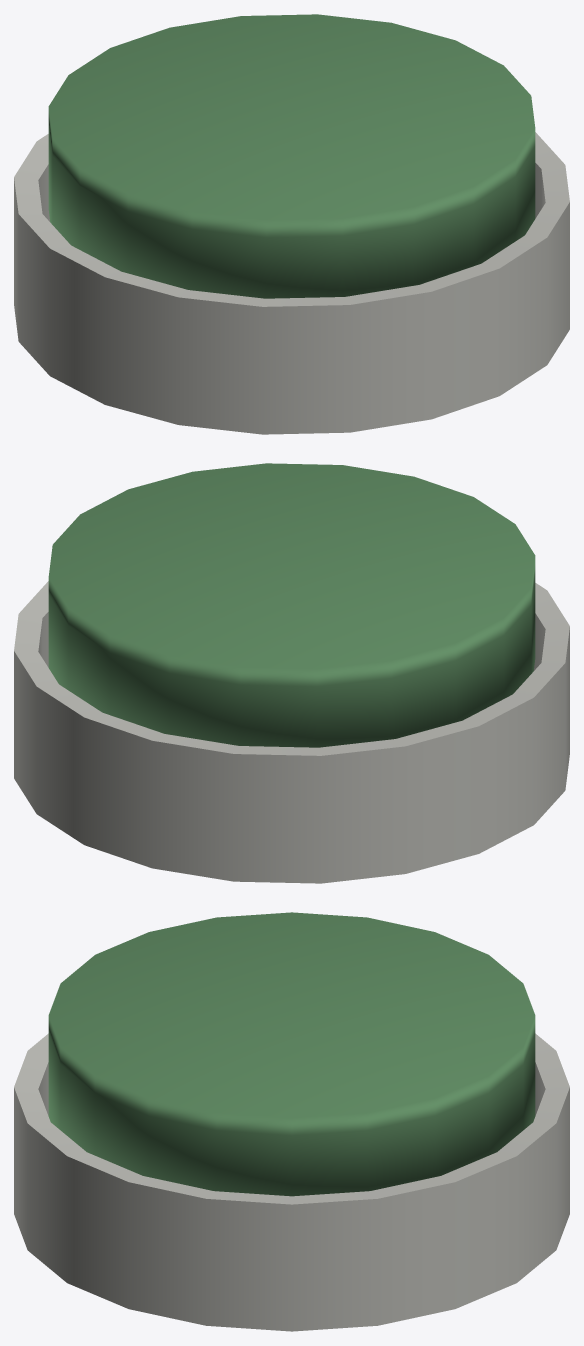
The model's file is forestButton.fbx.
The picture shows the model from 3 angles, top to bottom: view 1: azimuth 30°, elevation 25°; view 2: azimuth 150°, elevation 25°; view 3: azimuth 270°, elevation 25°; orthographic projection.
Visible parts, largest first — view 1: pCylinder2, pCylinder1; view 2: pCylinder2, pCylinder1; view 3: pCylinder2, pCylinder1.
Part boxes in pixels (x1,y1,x2,y2): pCylinder2: [48, 14, 535, 298]; pCylinder1: [14, 132, 569, 434]; pCylinder2: [48, 463, 535, 747]; pCylinder1: [14, 581, 569, 883]; pCylinder2: [48, 912, 535, 1196]; pCylinder1: [14, 1033, 569, 1331].
Bounding box in the file's own units: 13.51 × 5.33 × 13.51.
